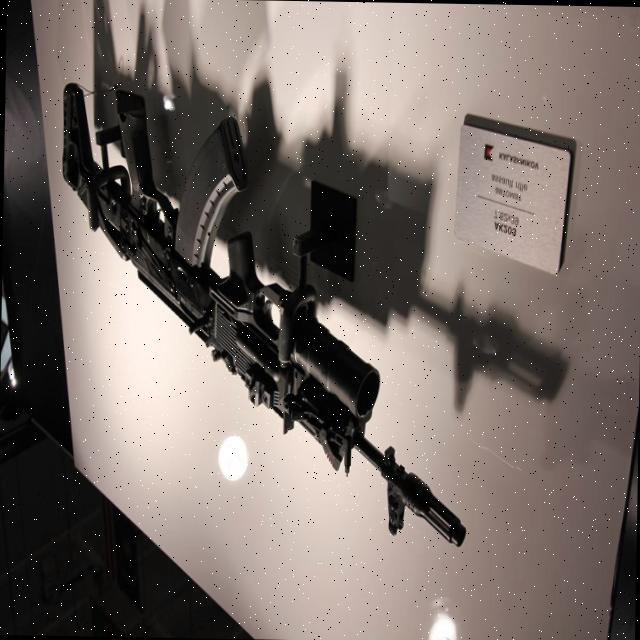Automaticrifle: (61, 89, 467, 542)
